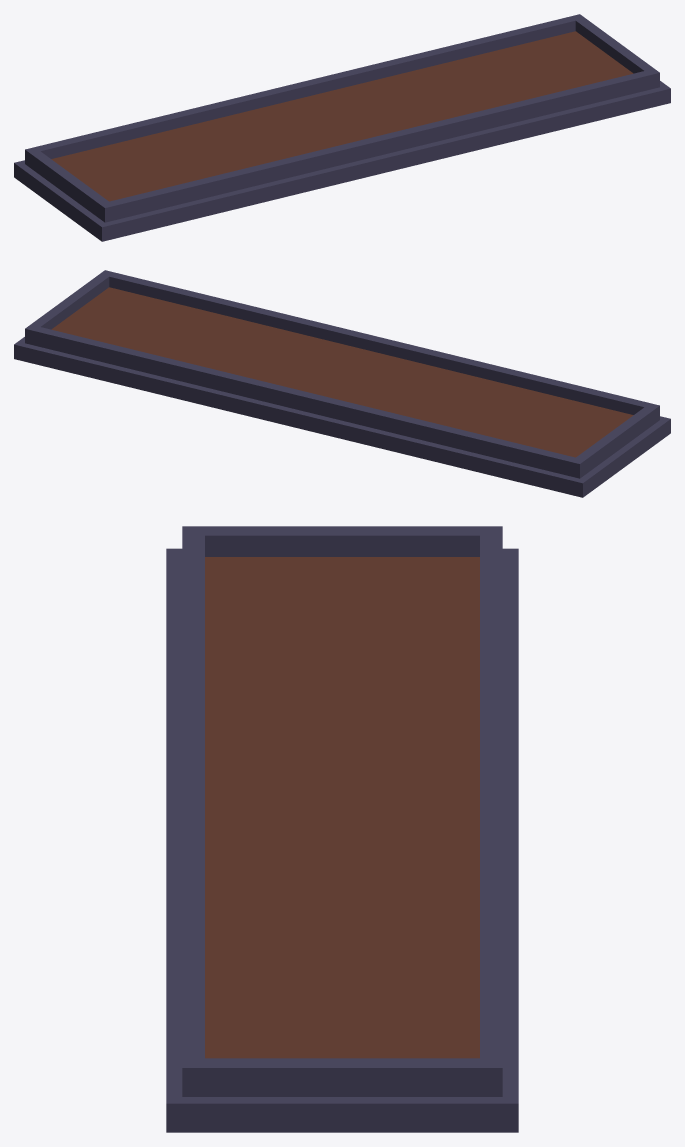
The model's file is Tori_PensasAita_Alusta.fbx.
3 renders of one model, top to bottom at view 1: azimuth 30°, elevation 25°; view 2: azimuth 150°, elevation 25°; view 3: azimuth 270°, elevation 25°, orthographic. The views are drawn at different scales.
Parts seen in each view (by area): view 1: Reunat; view 2: Reunat; view 3: Reunat.
Part boxes in pixels (<box>): Reunat: <box>14,14,670,241</box>; Reunat: <box>14,270,670,497</box>; Reunat: <box>166,526,518,1132</box>.
Size of the model in its own units: 410 by 20.02 by 110.
